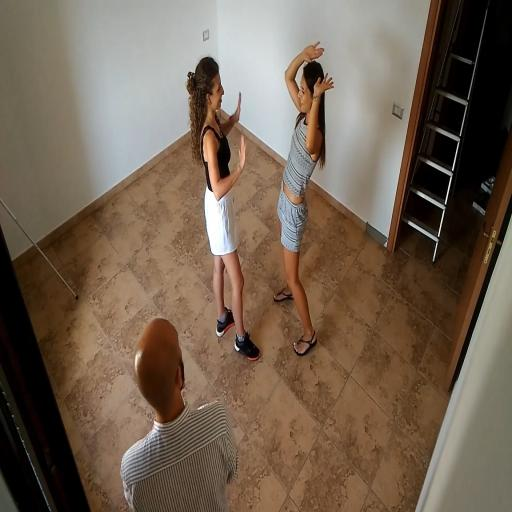nao-violencia: (149, 37, 345, 372)
